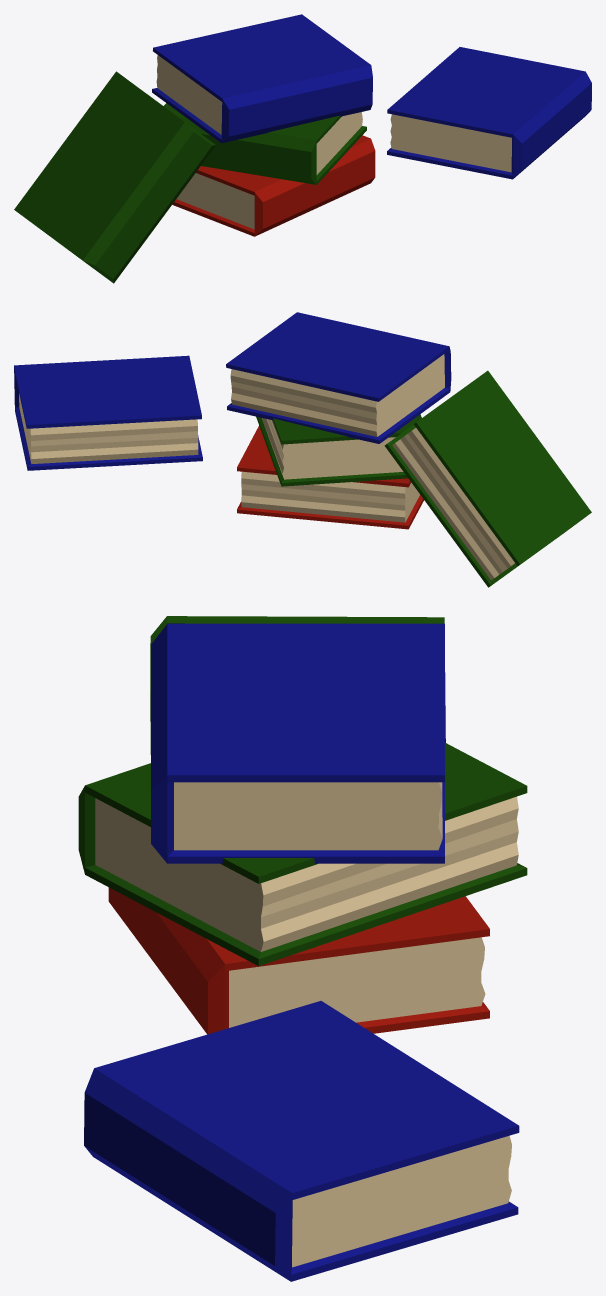
Rendered from pile_of_book.fbx.
3 renders of one model, top to bottom at view 1: azimuth 30°, elevation 25°; view 2: azimuth 150°, elevation 25°; view 3: azimuth 270°, elevation 25°, orthographic. The views are drawn at different scales.
Visible parts, largest first — view 1: Book.000, Book.007, Book.001, Book.006, Book.005; view 2: Book.000, Book.007, Book.001, Book.006, Book.005; view 3: Book.001, Book.007, Book.005, Book.006, Book.000.
Part boxes in pixels (x1,y1,x2,y2): Book.000: (14, 71, 215, 283); Book.007: (152, 14, 372, 143); Book.001: (387, 47, 591, 179); Book.006: (172, 135, 375, 236); Book.005: (163, 103, 366, 184); Book.000: (384, 370, 591, 587); Book.007: (226, 312, 451, 443); Book.001: (14, 355, 202, 470); Book.006: (237, 425, 423, 529); Book.005: (256, 414, 421, 486); Book.001: (84, 1001, 519, 1281); Book.007: (151, 623, 444, 863); Book.005: (78, 742, 527, 966); Book.006: (108, 887, 489, 1034); Book.000: (150, 616, 445, 754).
Bounding box in the file's own units: 301 × 85.19 × 109.
